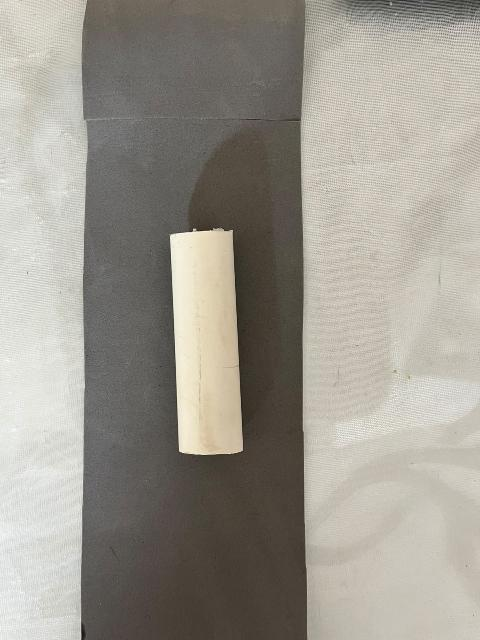PVC: (117, 188, 297, 516)
